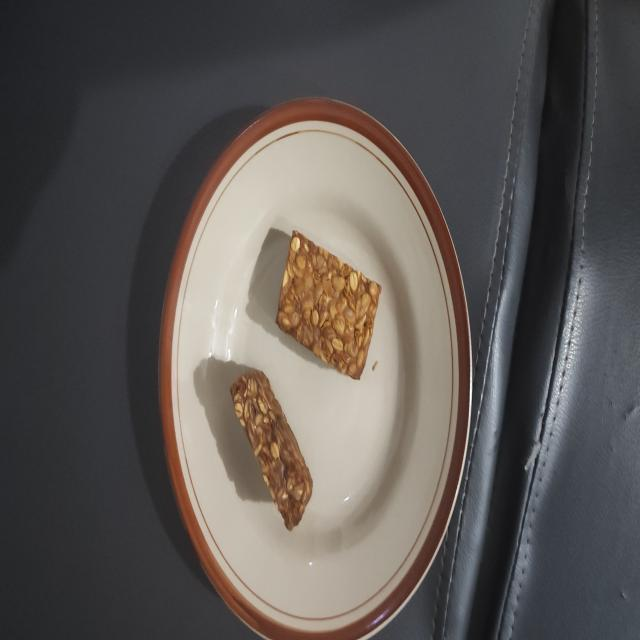tempe_goreng: (276, 230, 381, 378), (230, 370, 312, 530)
